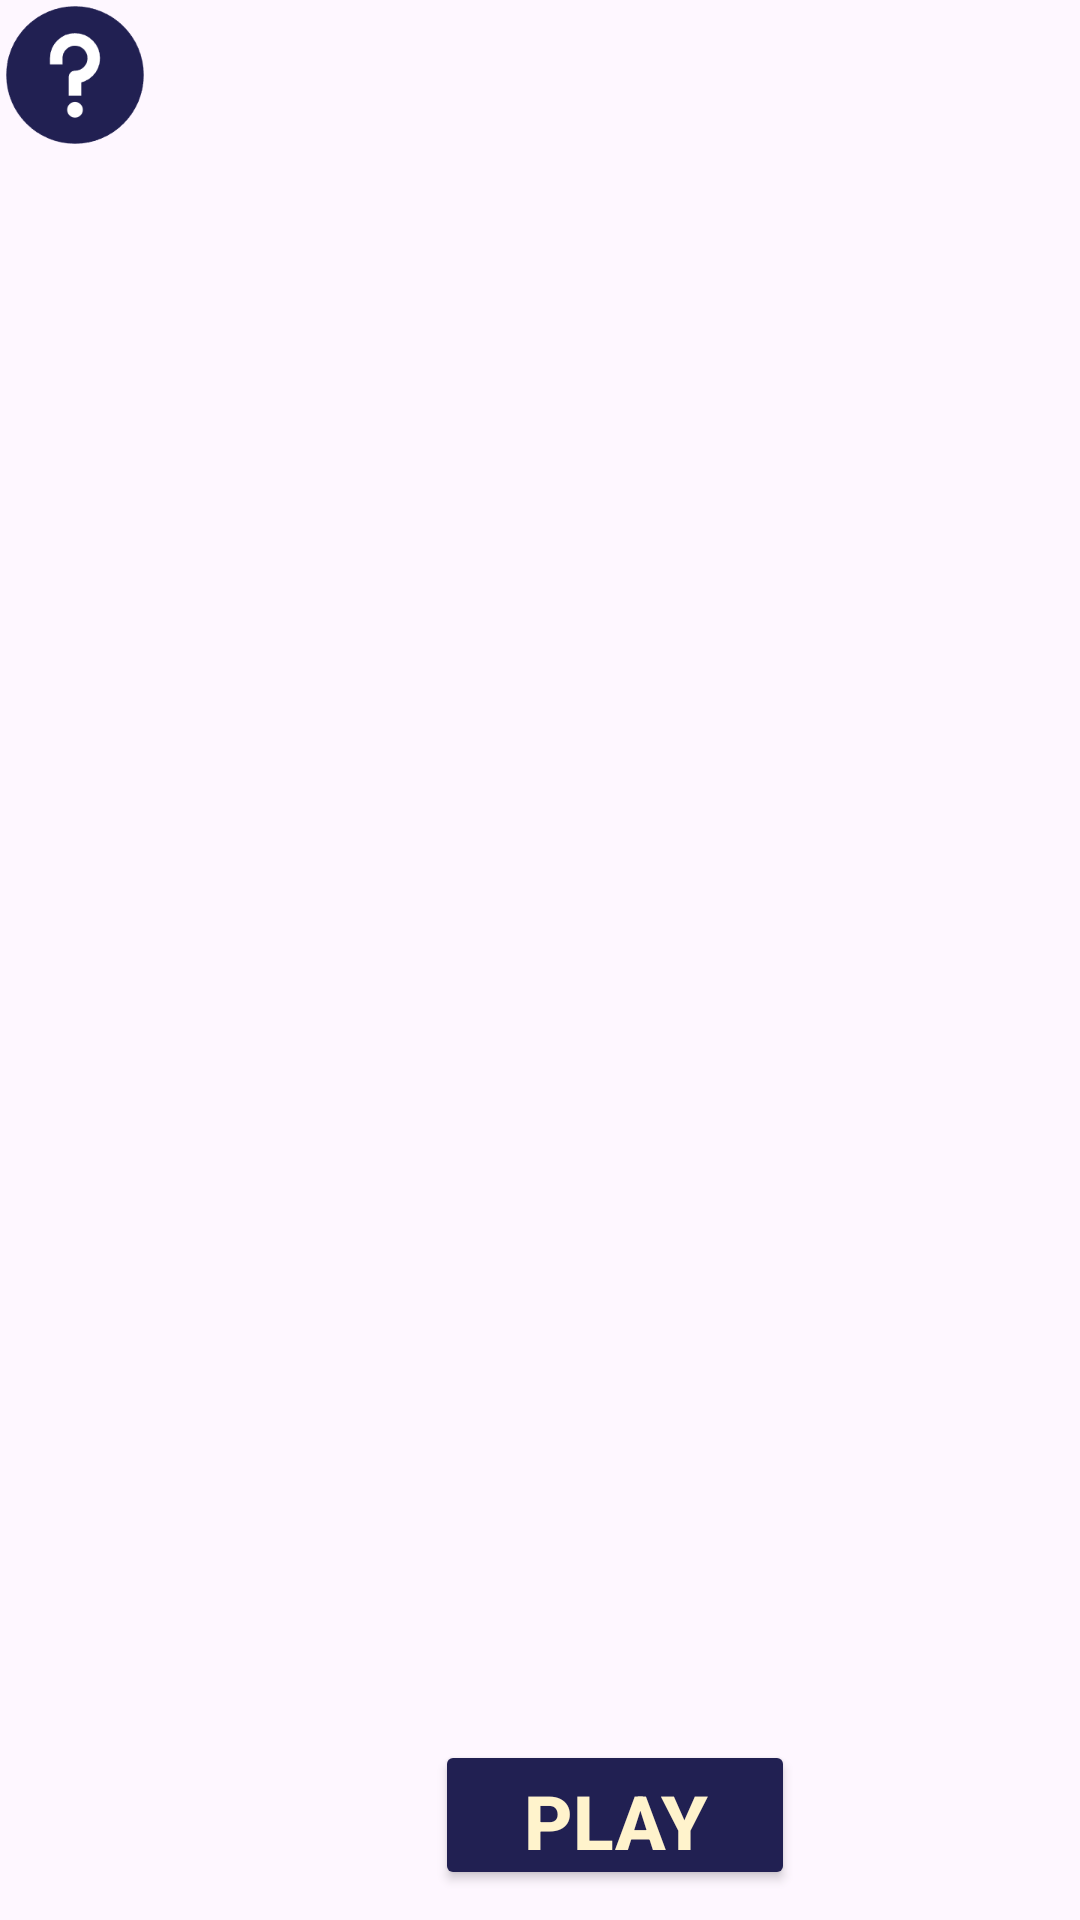

Icons on this 1080*1920 Android screen, each with the point to tap as (x,y):
help: (75,75)
